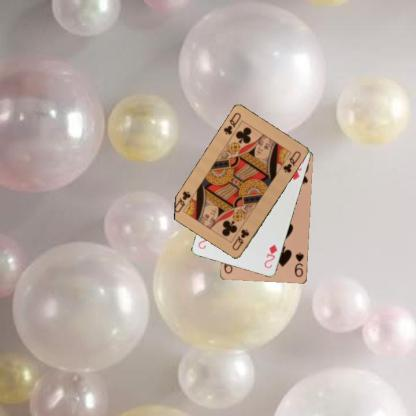2d: (262, 242, 278, 270)
9s: (292, 250, 305, 279)
Qc: (229, 226, 251, 252), (221, 110, 242, 136)
